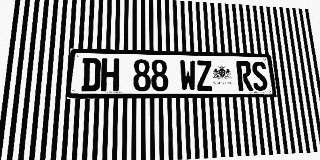8: (133, 59, 151, 91), (151, 59, 168, 91)
D: (81, 58, 101, 92)
H: (100, 58, 119, 91)
R: (236, 61, 253, 91)
S: (251, 61, 268, 91)
W: (179, 60, 197, 91)
Z: (196, 60, 213, 91)
